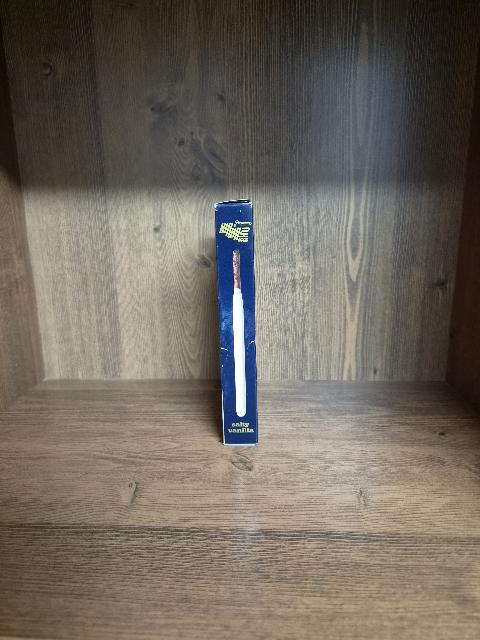pepero: (214, 198, 258, 445)
